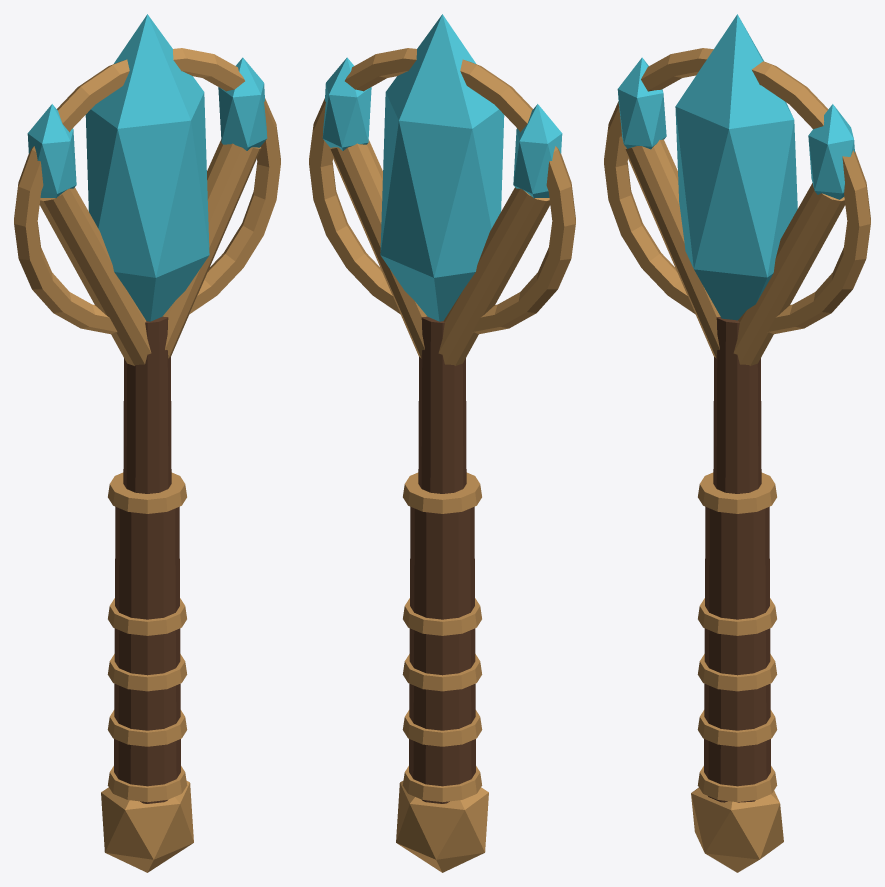
The model's file is MagicWeapon.fbx.
3 views of the same model, side by side, from view 1: azimuth 30°, elevation 25°; view 2: azimuth 150°, elevation 25°; view 3: azimuth 330°, elevation 25° (orthographic).
Visible parts, largest first — view 1: Arsenal_MagicWeapon; view 2: Arsenal_MagicWeapon; view 3: Arsenal_MagicWeapon.
Part boxes in pixels (x1,y1,x2,y2): Arsenal_MagicWeapon: (14, 14, 280, 872); Arsenal_MagicWeapon: (309, 14, 575, 872); Arsenal_MagicWeapon: (604, 14, 870, 872).
Size of the model in its own units: 50.4 by 155 by 17.01.
